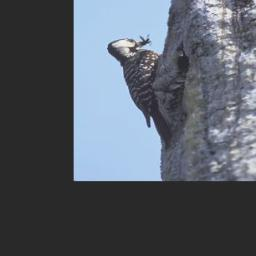Woodpecker: (107, 32, 189, 152)
